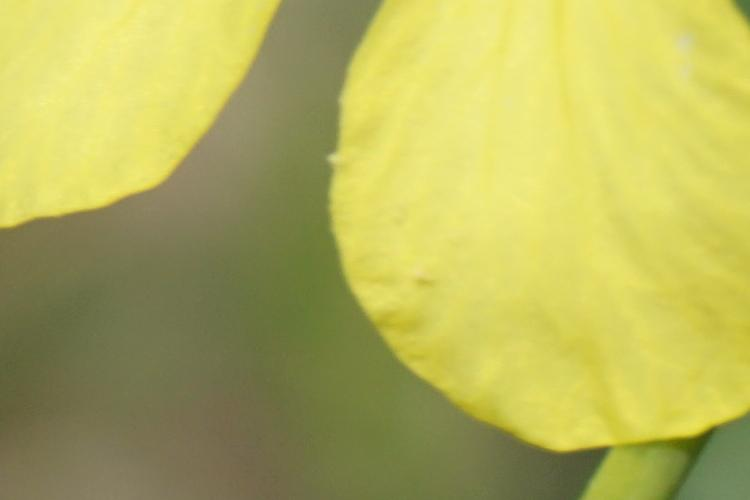yellow: (333, 18, 750, 465), (14, 5, 266, 236)
